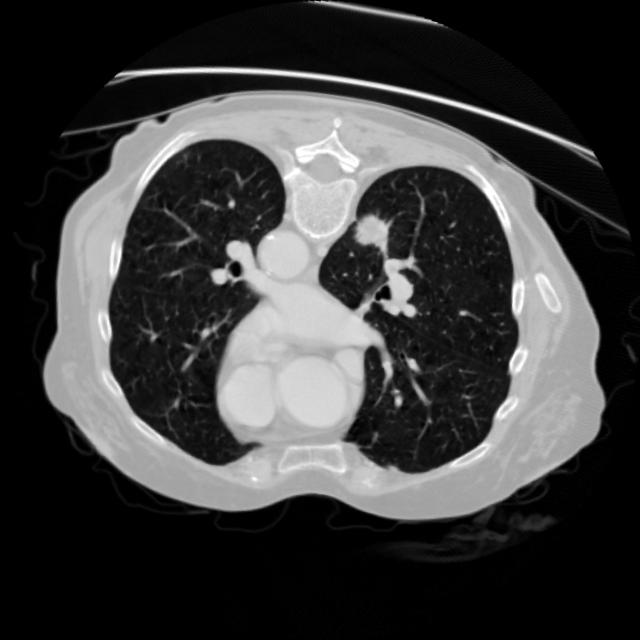nodule: (332, 193, 412, 272)
